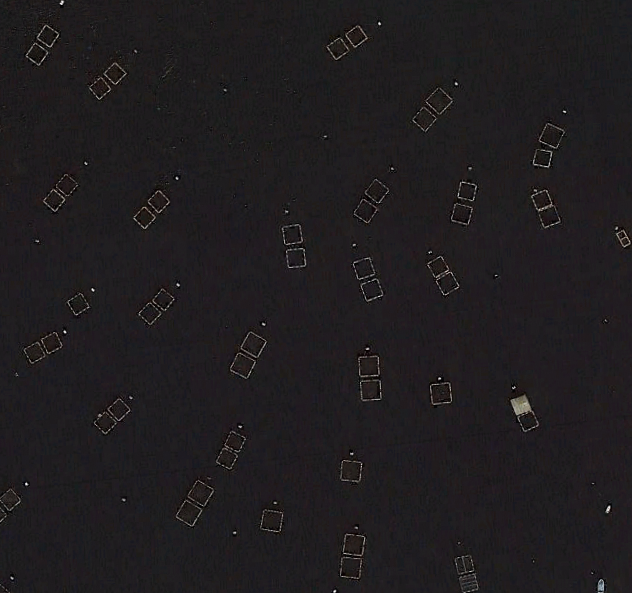square: (346, 369, 391, 411), (419, 73, 459, 116), (326, 453, 366, 494), (249, 504, 290, 540), (268, 217, 314, 249), (323, 554, 373, 583), (182, 468, 217, 509), (342, 193, 382, 228), (223, 351, 263, 386), (1, 476, 27, 529), (274, 239, 314, 273), (443, 176, 488, 206), (331, 529, 373, 561), (350, 340, 386, 377), (64, 286, 97, 326), (536, 119, 573, 154), (236, 328, 271, 364), (518, 179, 556, 212), (34, 186, 71, 219), (172, 495, 204, 533), (342, 251, 381, 282), (447, 200, 481, 235), (428, 373, 462, 408), (32, 327, 68, 360), (408, 101, 445, 133), (340, 15, 373, 50), (422, 244, 455, 279), (534, 201, 567, 234), (149, 283, 182, 315), (20, 41, 54, 72), (130, 200, 161, 234), (136, 300, 170, 331), (356, 272, 392, 300), (98, 56, 129, 88), (446, 542, 479, 572), (31, 23, 66, 51), (507, 387, 542, 415), (45, 171, 81, 198), (101, 394, 131, 425), (359, 175, 387, 208), (531, 141, 559, 173), (140, 183, 172, 211), (428, 267, 457, 297), (15, 335, 43, 366), (222, 426, 251, 455), (321, 33, 350, 61), (214, 440, 240, 470), (514, 407, 542, 433), (83, 72, 112, 97), (93, 411, 118, 439), (457, 571, 488, 592)
